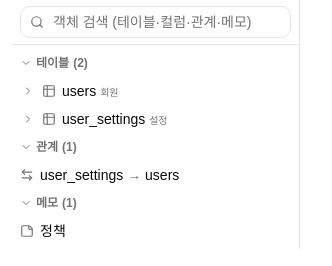
Test: ModelExplorerPanel — 검색 › 일치 없음 안내
The image size is (332, 266).
Step 1. Type "zzz" into the field labelled "객체 검색" → (156,22), box [20,6,291,38]
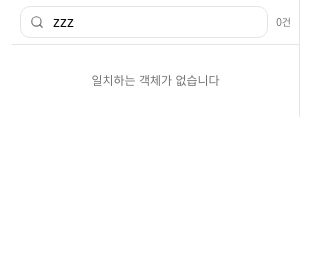
Expected: the text with test id "explorer-no-results" reads "일치하는 객체가 없습니다", [91,74,220,88]
